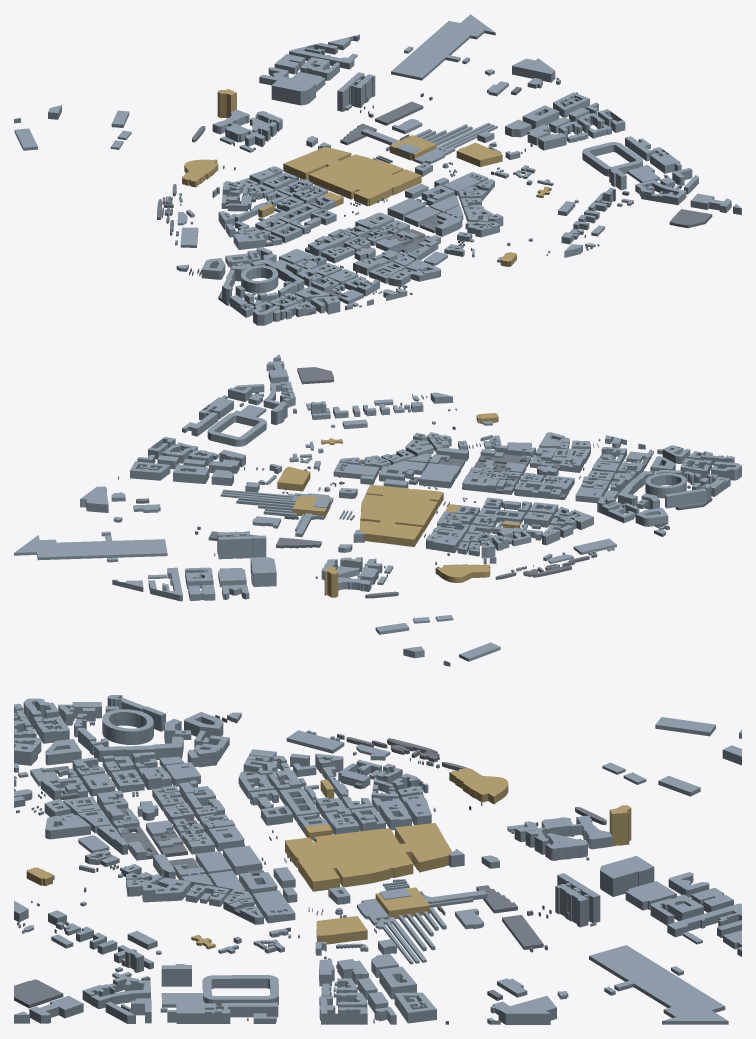
Rendered from buildings.glb.
The picture shows the model from 3 angles, top to bottom: view 1: azimuth 30°, elevation 25°; view 2: azimuth 150°, elevation 25°; view 3: azimuth 270°, elevation 25°; orthographic projection. The views are drawn at different scales.
Visible parts, largest first — view 1: buildings; view 2: buildings; view 3: buildings.
Part boxes in pixels (x1=…): buildings: x1=14, y1=14, x2=741, y2=325; buildings: x1=14, y1=354, x2=741, y2=666; buildings: x1=14, y1=695, x2=741, y2=1024.
Bounding box in the file's own units: 1500 × 87.4 × 1500.
